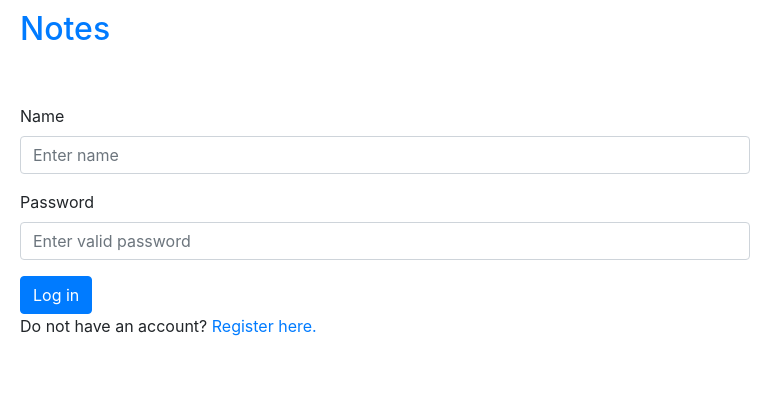
Test: Login Test › Should display errors on login with invalid credentials
Step 1. Click the button with test id "login" → (56, 295), box [20,276,92,314]
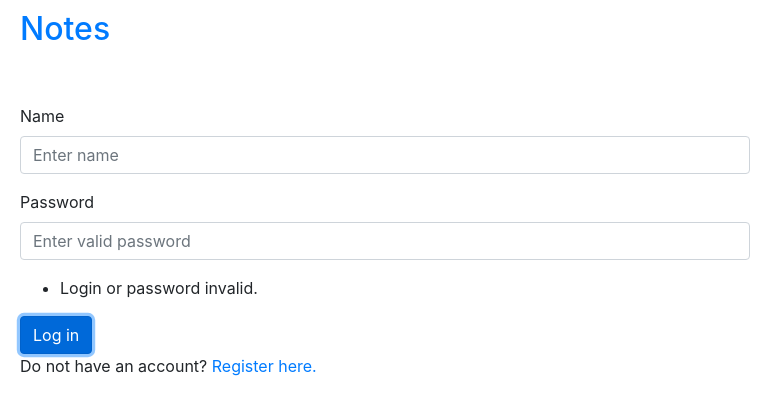
Result: the list item with test id "general-login-error" reads "Login or password invalid." at [60,278,258,298]
